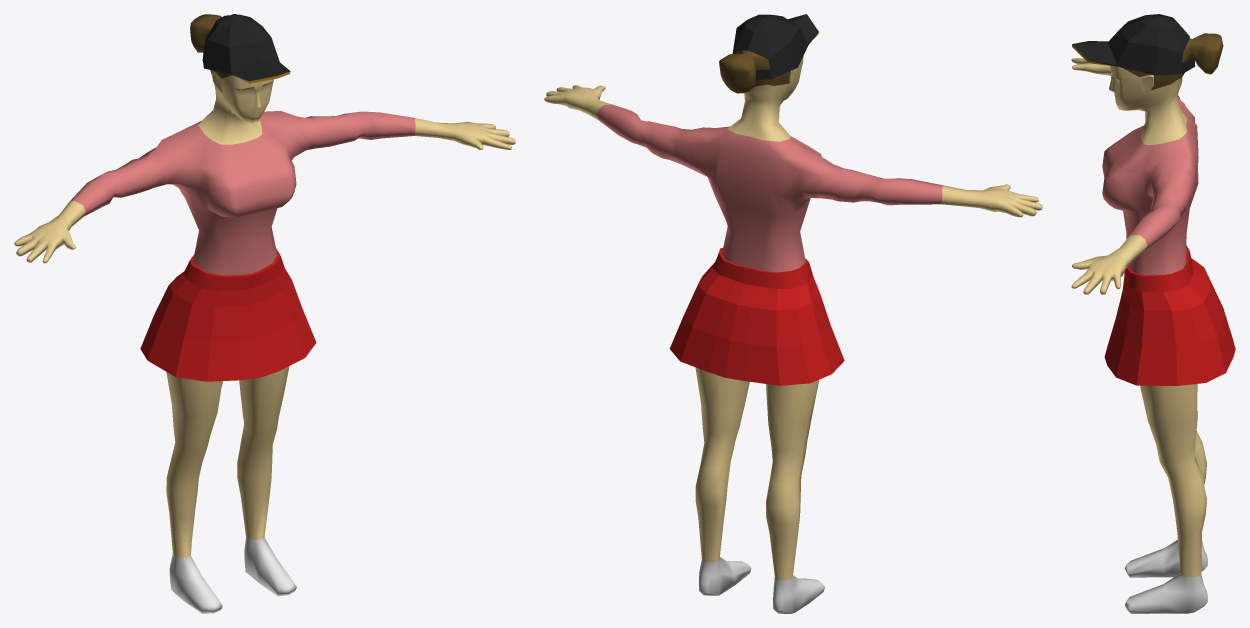
Rendered from Waitres.fbx.
3 views of the same model, side by side, from view 1: azimuth 30°, elevation 25°; view 2: azimuth 150°, elevation 25°; view 3: azimuth 270°, elevation 25° (orthographic).
Visible parts, largest first — view 1: Waitres; view 2: Waitres; view 3: Waitres.
Part boxes in pixels (x1,y1,x2,y2): Waitres: (14,14,515,613); Waitres: (544,14,1042,613); Waitres: (1071,14,1235,613).
Size of the model in its own units: 165 by 185 by 47.85.
